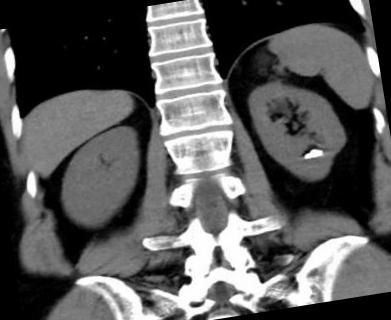Tas_Var: (310, 147, 324, 159), (302, 152, 312, 160)
